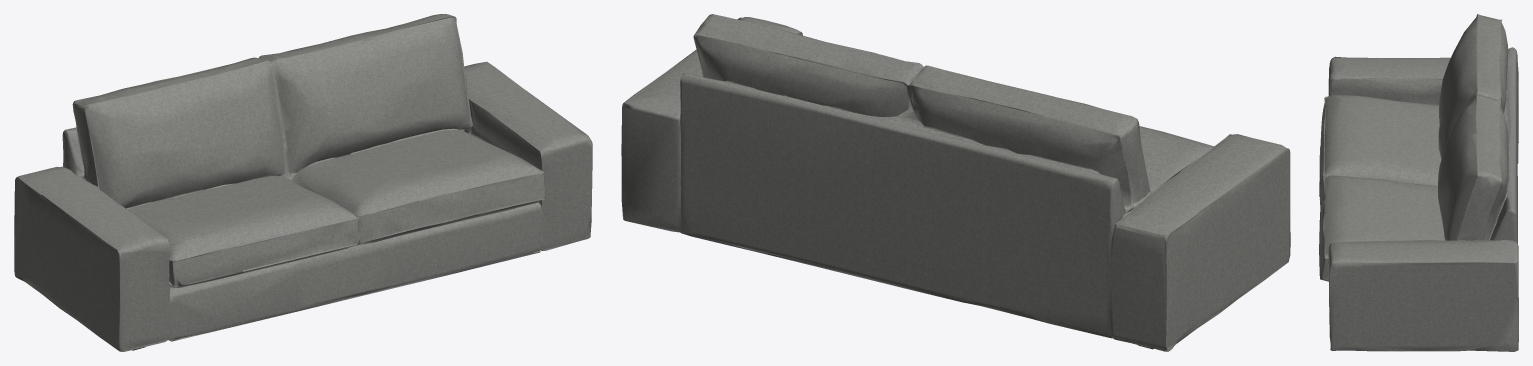
The model's file is kivik_sofa_3_osobowa_49440597.glb.
3 renders of one model, left to right at view 1: azimuth 30°, elevation 25°; view 2: azimuth 150°, elevation 25°; view 3: azimuth 270°, elevation 25°, orthographic. The views are drawn at different scales.
Parts seen in each view (by area): view 1: kivik_sofa_3_osobowa_49440597; view 2: kivik_sofa_3_osobowa_49440597; view 3: kivik_sofa_3_osobowa_49440597.
Boxes of the visible parts, box(x1,y1,x2,y2) form: kivik_sofa_3_osobowa_49440597: box(14, 14, 592, 351); kivik_sofa_3_osobowa_49440597: box(621, 14, 1290, 351); kivik_sofa_3_osobowa_49440597: box(1319, 14, 1518, 351).
Size of the model in its own units: 2.29 by 0.8451 by 0.9447.
Materials: 1 (1 with a texture image).
